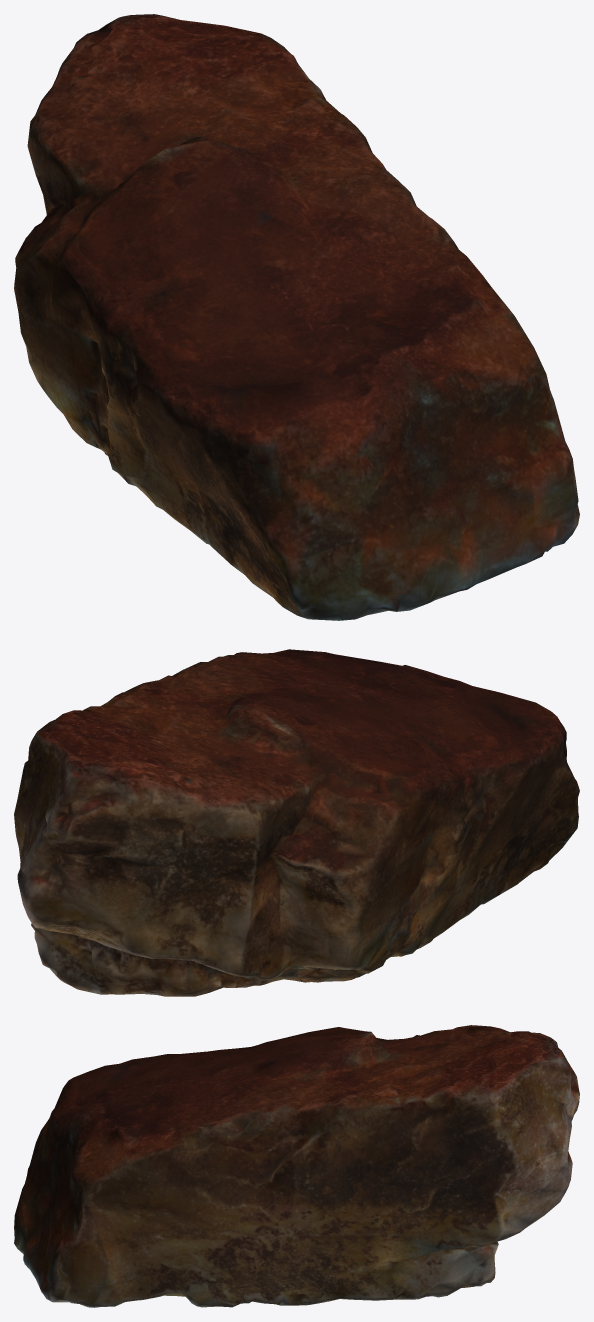
Rendered from runtime-lod.glb.
3 renders of one model, top to bottom at view 1: azimuth 30°, elevation 25°; view 2: azimuth 150°, elevation 25°; view 3: azimuth 270°, elevation 25°, orthographic. The views are drawn at different scales.
Parts seen in each view (by area): view 1: rock_07; view 2: rock_07; view 3: rock_07.
Boxes of the visible parts, x1=… form: rock_07: x1=14, y1=14, x2=579, y2=620; rock_07: x1=14, y1=649, x2=579, y2=996; rock_07: x1=14, y1=1025, x2=579, y2=1307.
Bounding box in the file's own units: 0.1686 × 0.1437 × 0.3199.
Materials: 1 (1 with a texture image).
